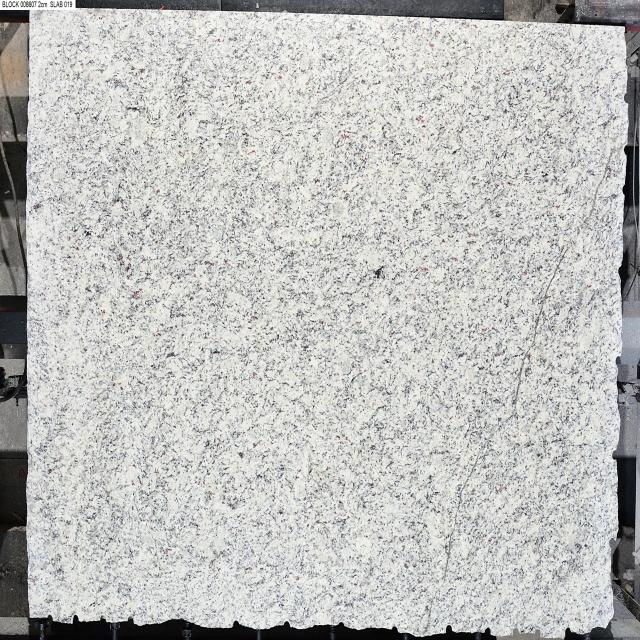chapa: (28, 10, 628, 636)
veio: (563, 625, 574, 640), (607, 535, 617, 549), (510, 626, 520, 638), (444, 624, 454, 636), (484, 625, 492, 637)
